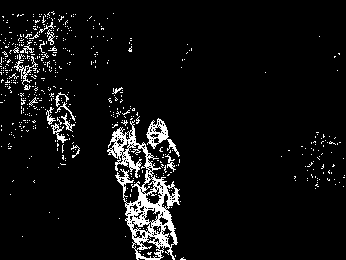person: (131, 181, 183, 260), (45, 94, 80, 163), (147, 118, 180, 176), (109, 116, 137, 177)
